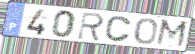0: (50, 10, 80, 39)
4: (26, 8, 48, 36)
C: (103, 15, 133, 43)
M: (154, 18, 190, 50)
O: (133, 17, 159, 45)
R: (76, 11, 106, 42)
